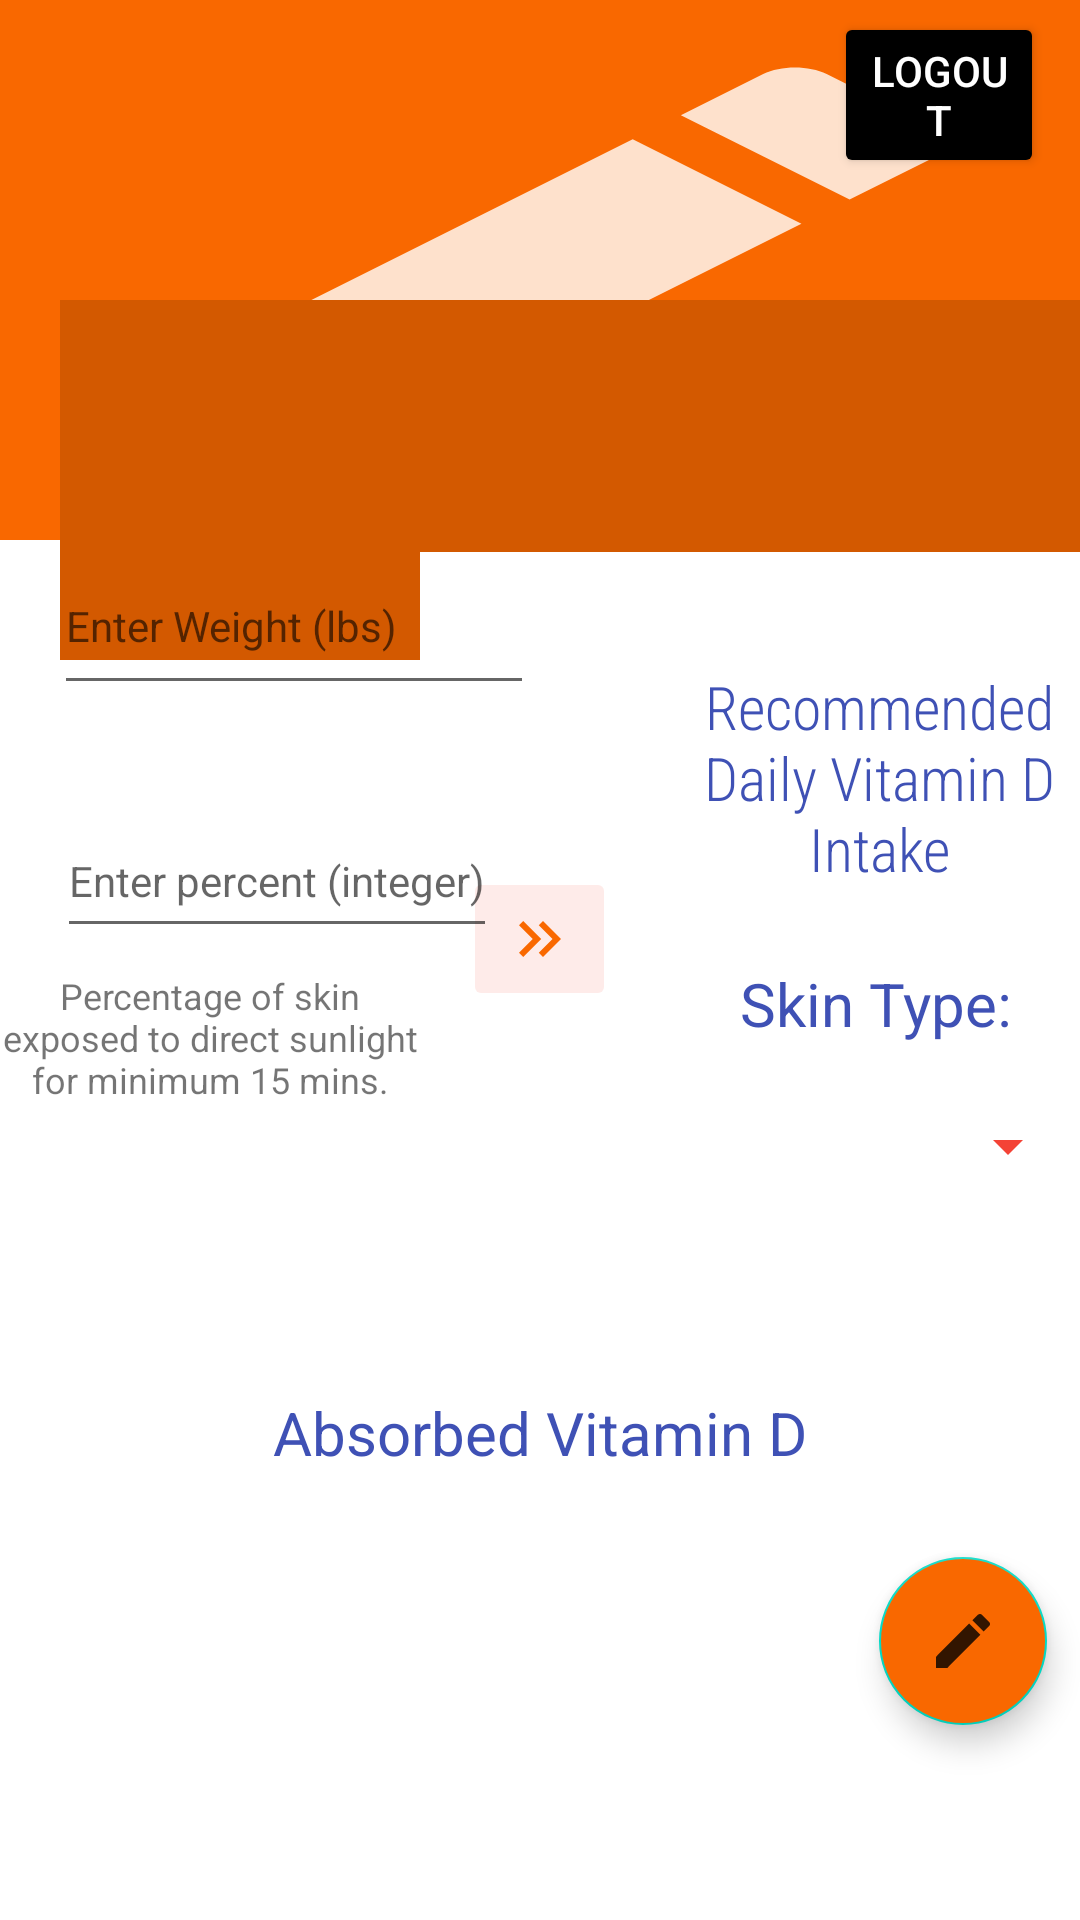

Icon bounding boxes for this 1080x1920 phone screenshot, format bbox(x1, y1, x2, y2):
double arrow: bbox(463, 867, 604, 993)
edit: bbox(879, 1557, 1047, 1725)
